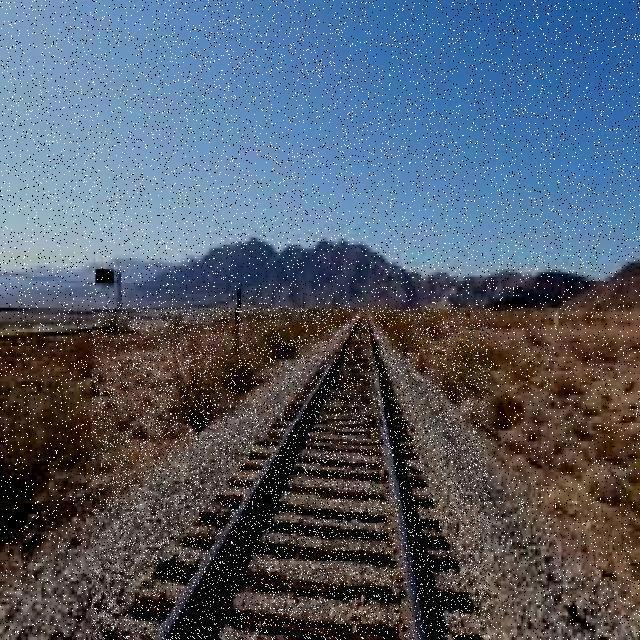rail: (93, 310, 490, 639)
